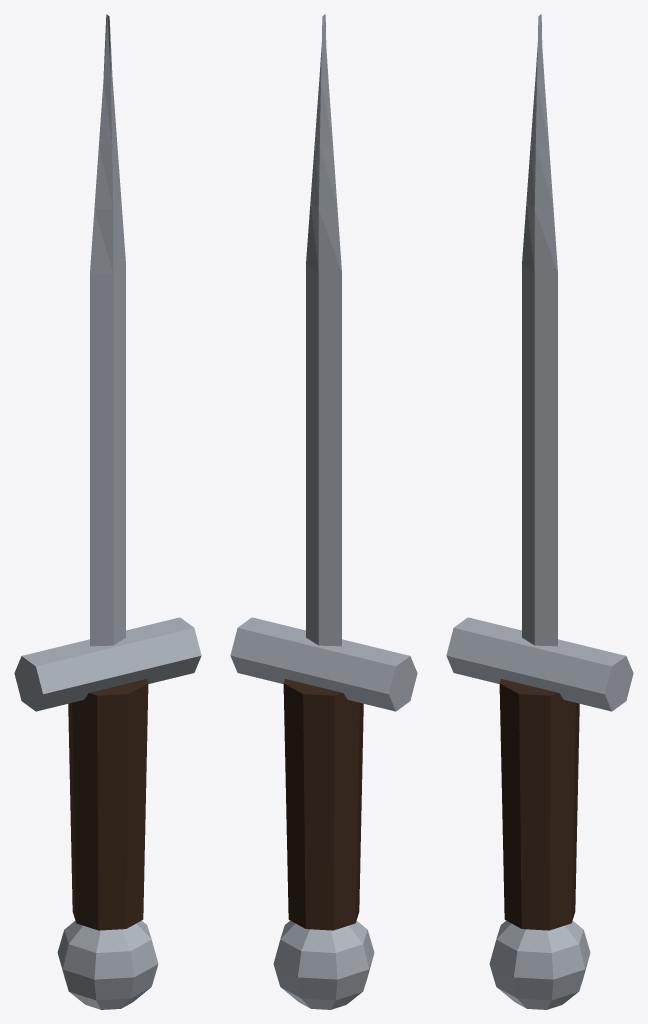
The model's file is g-dagger-stiletto.glb.
3 views of the same model, side by side, from view 1: azimuth 30°, elevation 25°; view 2: azimuth 150°, elevation 25°; view 3: azimuth 330°, elevation 25° (orthographic).
Visible parts, largest first — view 1: g-dagger-stiletto; view 2: g-dagger-stiletto; view 3: g-dagger-stiletto.
Part boxes in pixels (box(x1,y1,x2,y2)): g-dagger-stiletto: box(14, 14, 201, 1009); g-dagger-stiletto: box(230, 14, 417, 1009); g-dagger-stiletto: box(446, 14, 633, 1009).
Size of the model in its own units: 0.07 by 0.4153 by 0.04.
